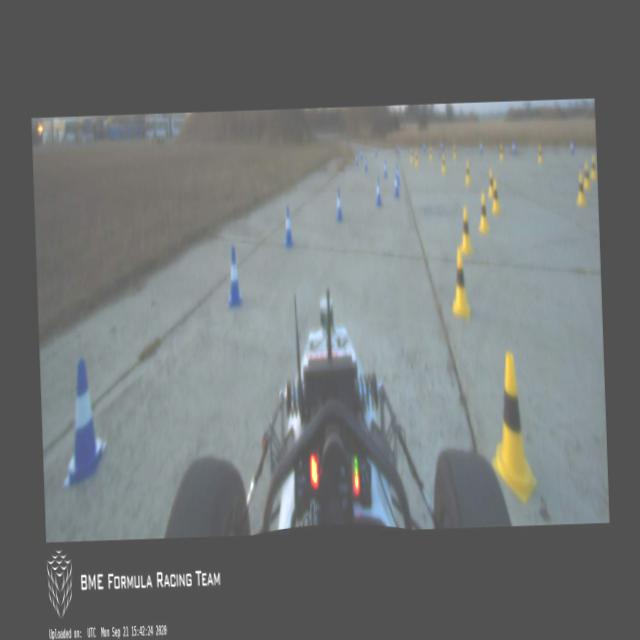blue_cone: (60, 358, 108, 487), (226, 246, 242, 308), (283, 206, 293, 248), (335, 189, 343, 222), (374, 180, 382, 207), (393, 176, 399, 198), (394, 166, 400, 185), (382, 160, 388, 178)
yellow_cone: (487, 349, 538, 508), (450, 244, 470, 322), (459, 207, 472, 254), (477, 191, 489, 233), (575, 172, 586, 206), (491, 180, 500, 213), (589, 152, 597, 181), (582, 163, 590, 190), (487, 169, 493, 197), (464, 161, 470, 185), (440, 154, 446, 172), (414, 152, 418, 166)
